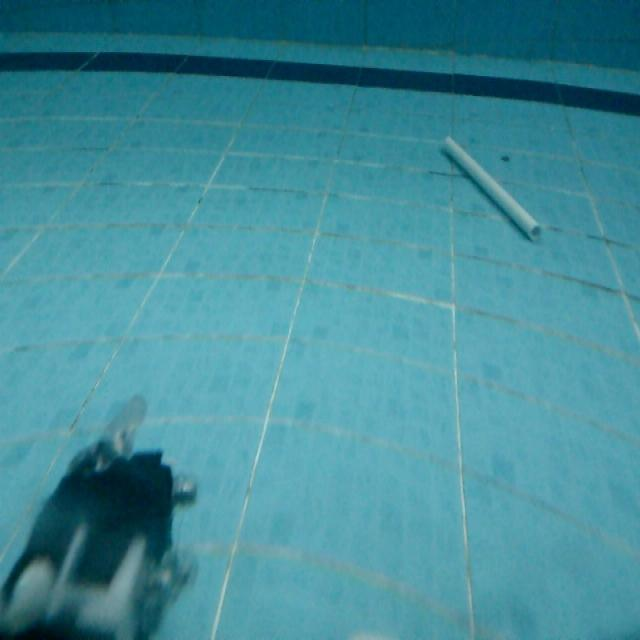Cube: (438, 129, 544, 244)
